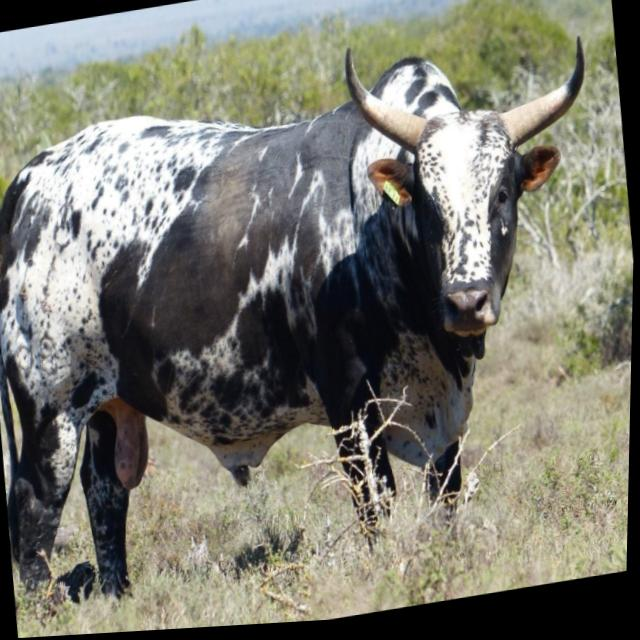cowFace: (323, 16, 616, 380)
